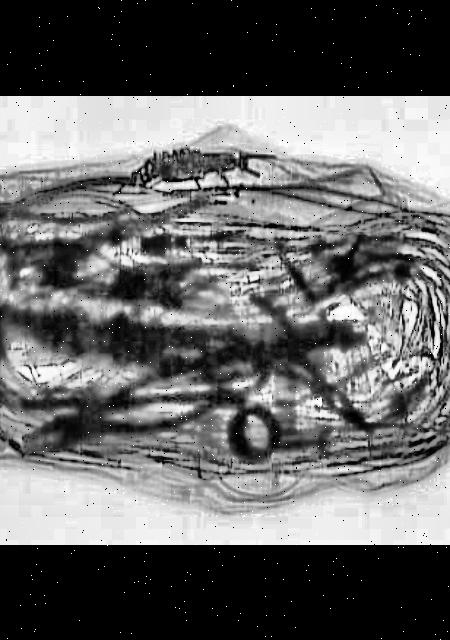Pliers: (14, 352, 234, 470), (0, 170, 145, 238)
